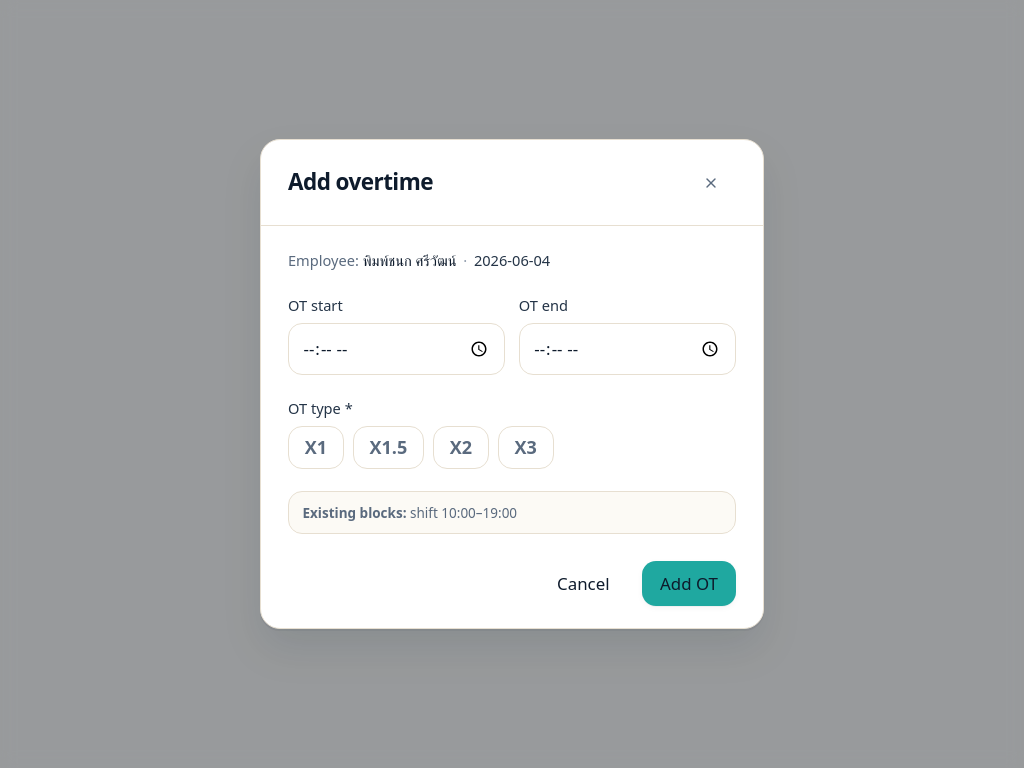
Test case: OtScheduleModal — STA-260 › rejects a window overlapping the shift with an inline error
Click the button with test id "ot-rate-x1.5": point(388, 448) left=353, top=426, right=424, bottom=469
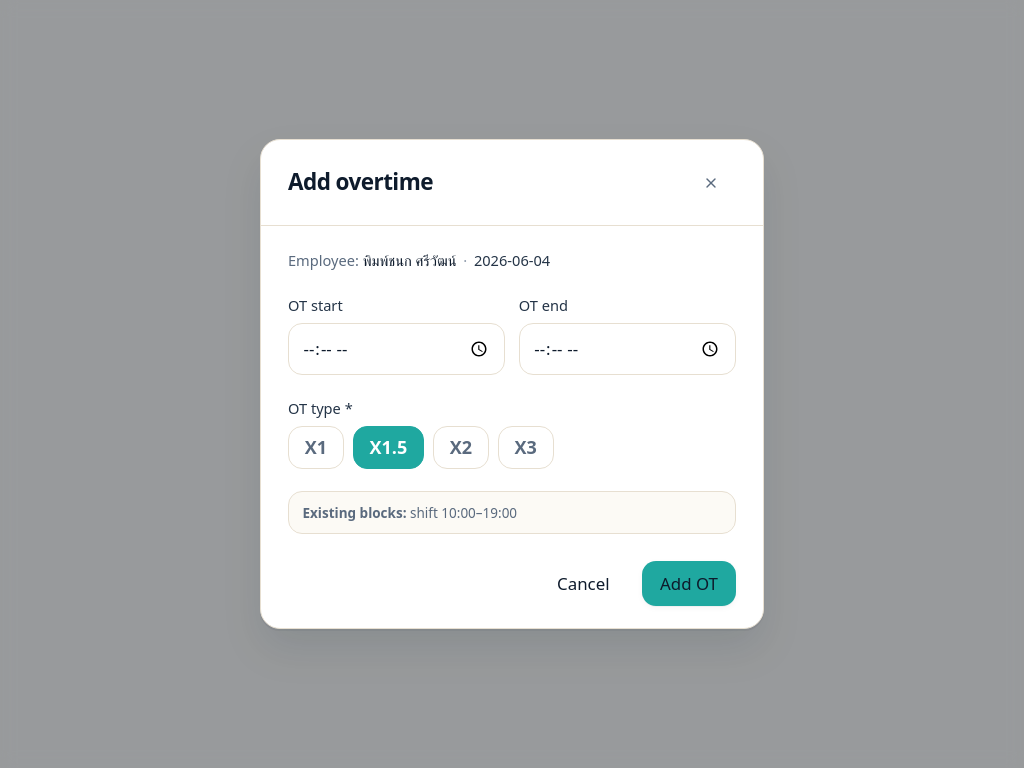
In the time field with test id "ot-start-input": point(397, 349) left=288, top=323, right=505, bottom=374, type "18:00"
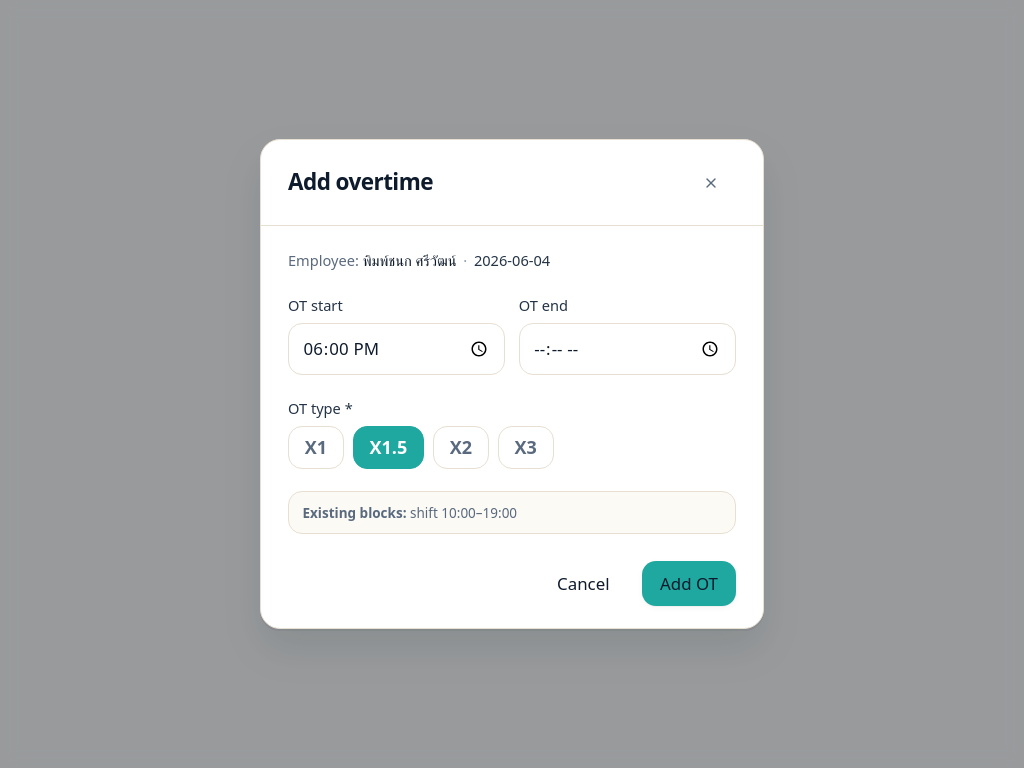
In the time field with test id "ot-end-input": point(627, 349) left=519, top=323, right=736, bottom=374, type "20:00"
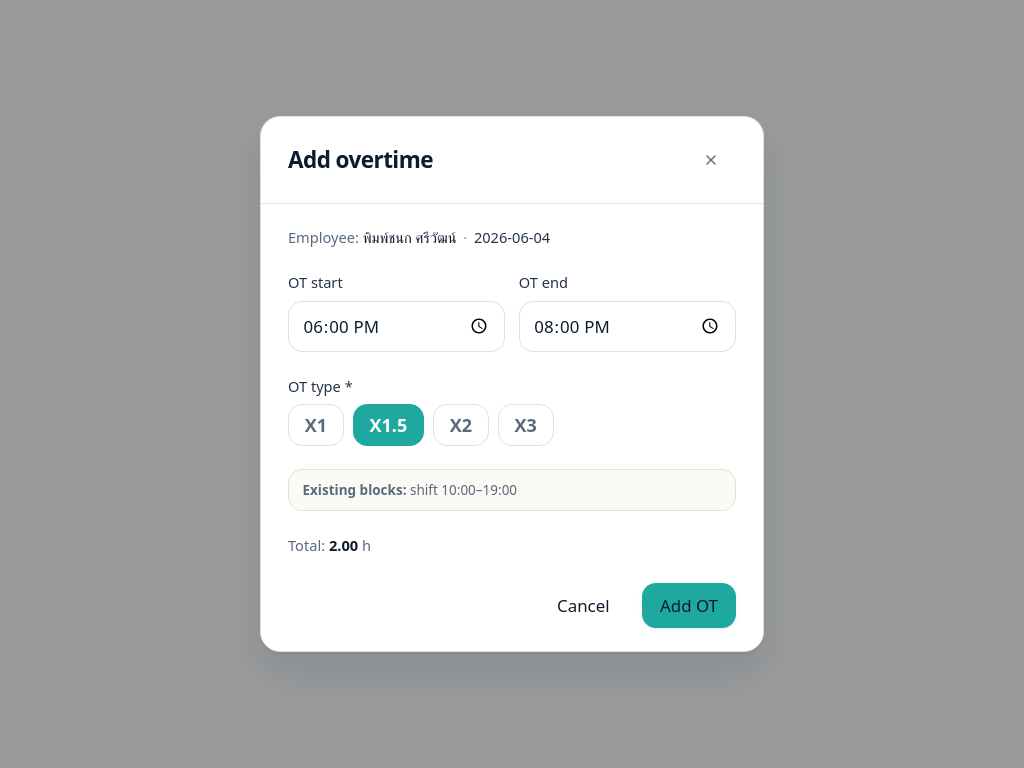
Click the button with test id "ot-schedule-save": point(689, 606) left=642, top=583, right=736, bottom=628
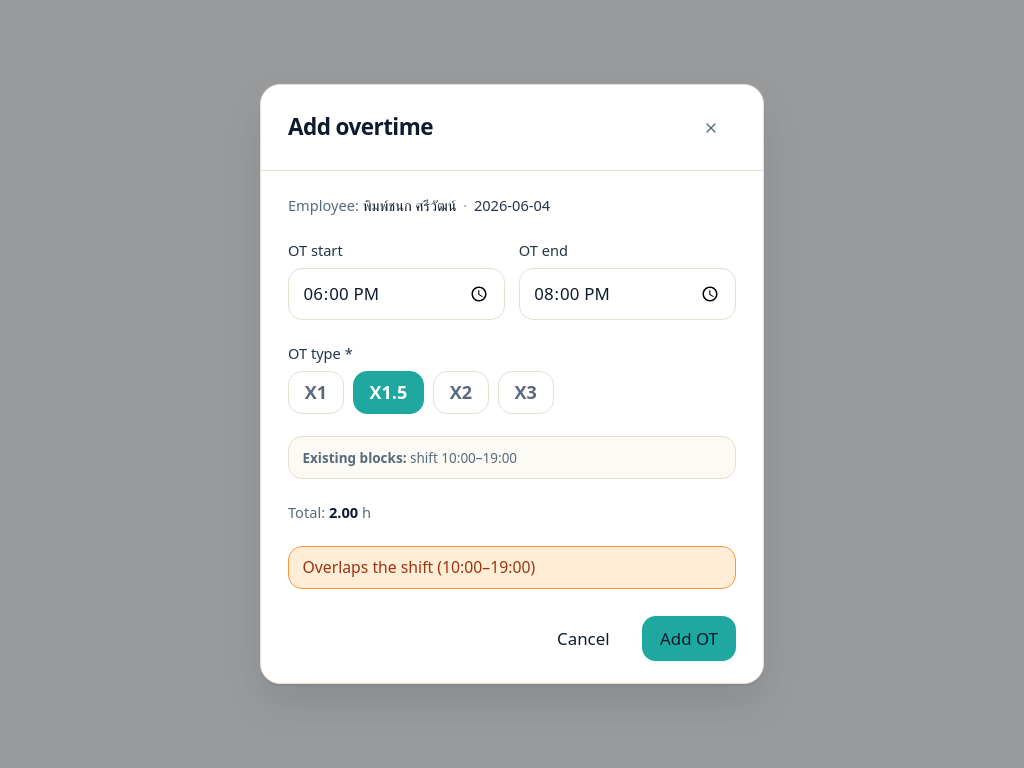
Now the text with test id "ot-schedule-error" shows "shift (10:00–19:00)", box left=302, top=556, right=535, bottom=578
